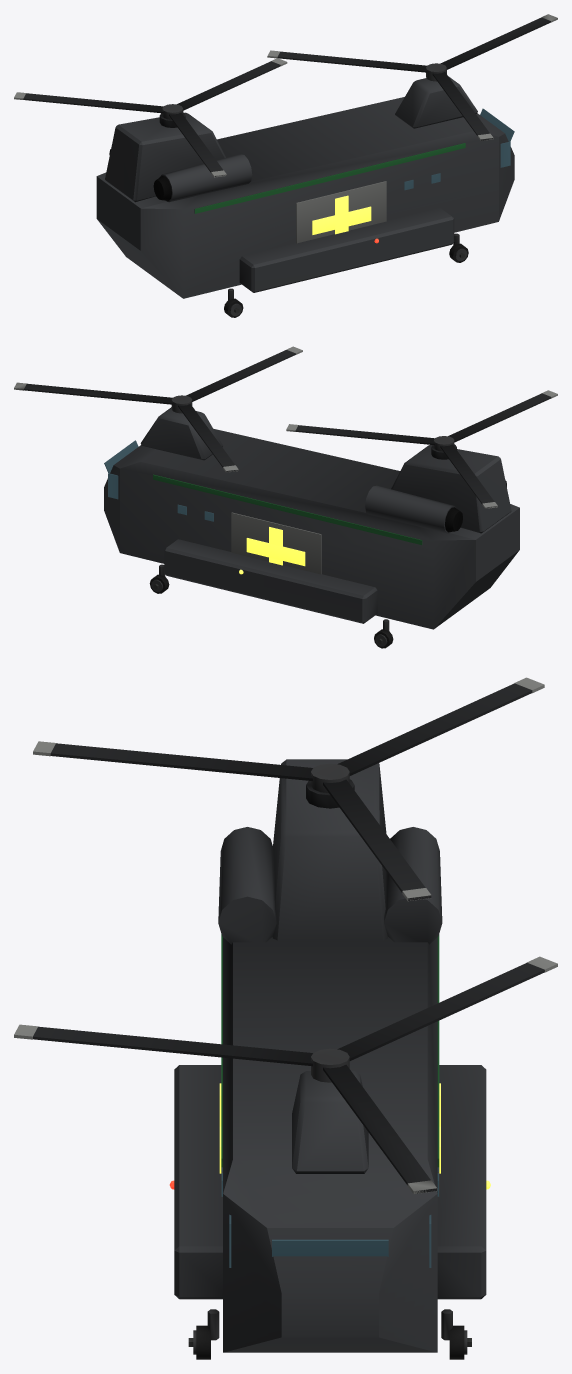
File: u_medevac.glb
3 renders of one model, top to bottom at view 1: azimuth 30°, elevation 25°; view 2: azimuth 150°, elevation 25°; view 3: azimuth 270°, elevation 25°, orthographic. The views are drawn at different scales.
Visible parts, largest first — view 1: Medevac_Walls, Medevac_Details, Medevac_rotor; view 2: Medevac_Walls, Medevac_Details, Medevac_rotor; view 3: Medevac_Walls, Medevac_Details, Medevac_rotor.
Boxes of the visible parts, box(x1,y1,x2,y2) form: Medevac_Walls: box(96, 76, 514, 298); Medevac_Details: box(14, 58, 514, 317); Medevac_rotor: box(267, 14, 557, 140); Medevac_Walls: box(104, 407, 519, 629); Medevac_Details: box(104, 390, 557, 648); Medevac_rotor: box(14, 346, 302, 472); Medevac_Walls: box(174, 759, 486, 1352); Medevac_Details: box(33, 677, 544, 1359); Medevac_rotor: box(14, 956, 557, 1194).
Bounding box in the file's own units: 2.28 × 0.82 × 1.12.
